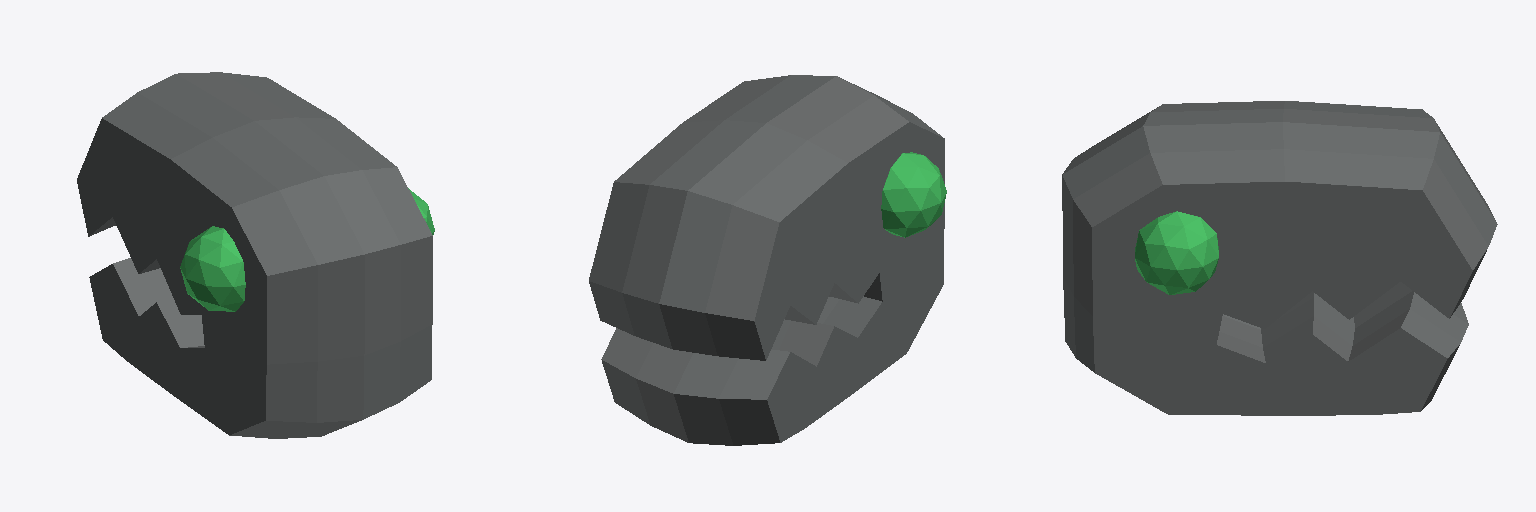
The picture shows the model from 3 angles: view 1: azimuth 30°, elevation 25°; view 2: azimuth 150°, elevation 25°; view 3: azimuth 270°, elevation 25°; orthographic projection.
Parts seen in each view (by area): view 1: field_field_平面.001; view 2: field_field_平面.001; view 3: field_field_平面.001.
Boxes of the visible parts, x1,y1,x2,y2 form: field_field_平面.001: [77, 72, 434, 438]; field_field_平面.001: [589, 75, 946, 445]; field_field_平面.001: [1062, 101, 1497, 415].
Bounding box in the file's own units: 2.64 × 2.78 × 4.09.
1 materials, 1 textured.